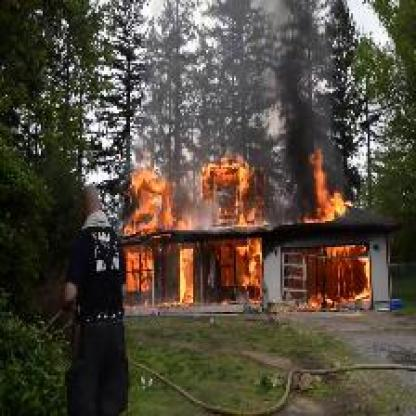fire: (67, 121, 398, 315)
